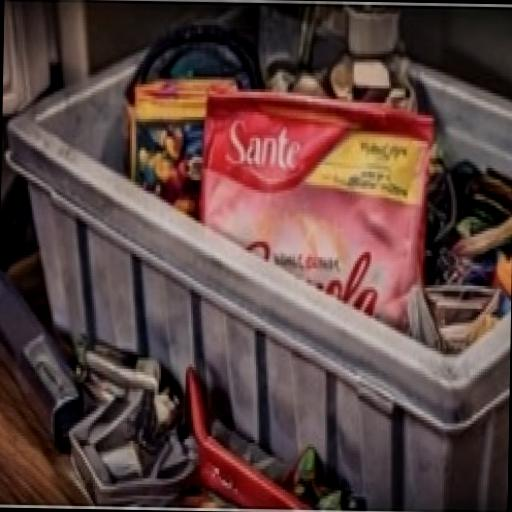granola: (170, 54, 492, 430)
